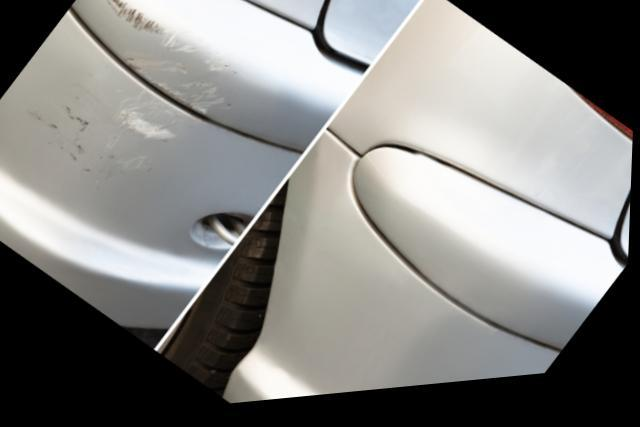scratch: (102, 0, 244, 124), (28, 92, 190, 189)
